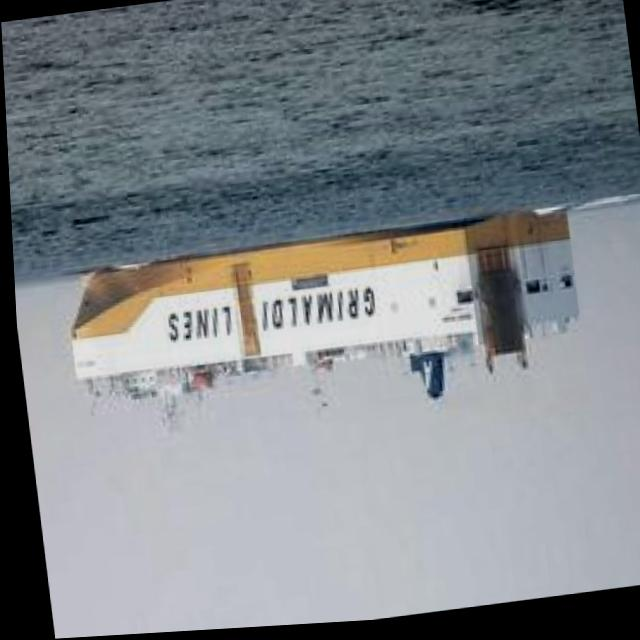ship2: (64, 214, 575, 436)
